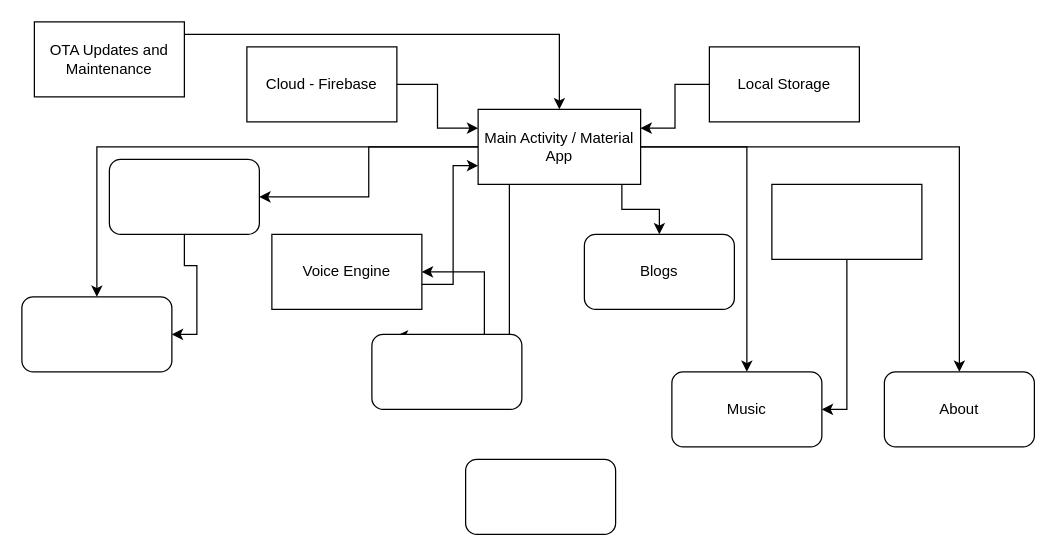
Some shapes in this 1056 by 556 pixel diagram are drawn without their labels. Here are the shapes that lost their labels. From the top down, the centre of each, then its label:
the point at 183,196: Activity
the point at 846,221: Youtube Streams
the point at 96,334: Insights
the point at 446,371: Assistant
